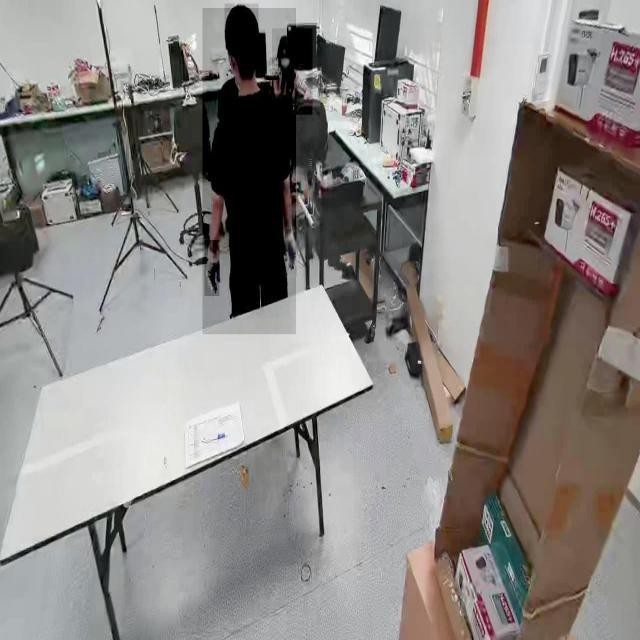gloves: (204, 240, 220, 297), (286, 226, 300, 278)
